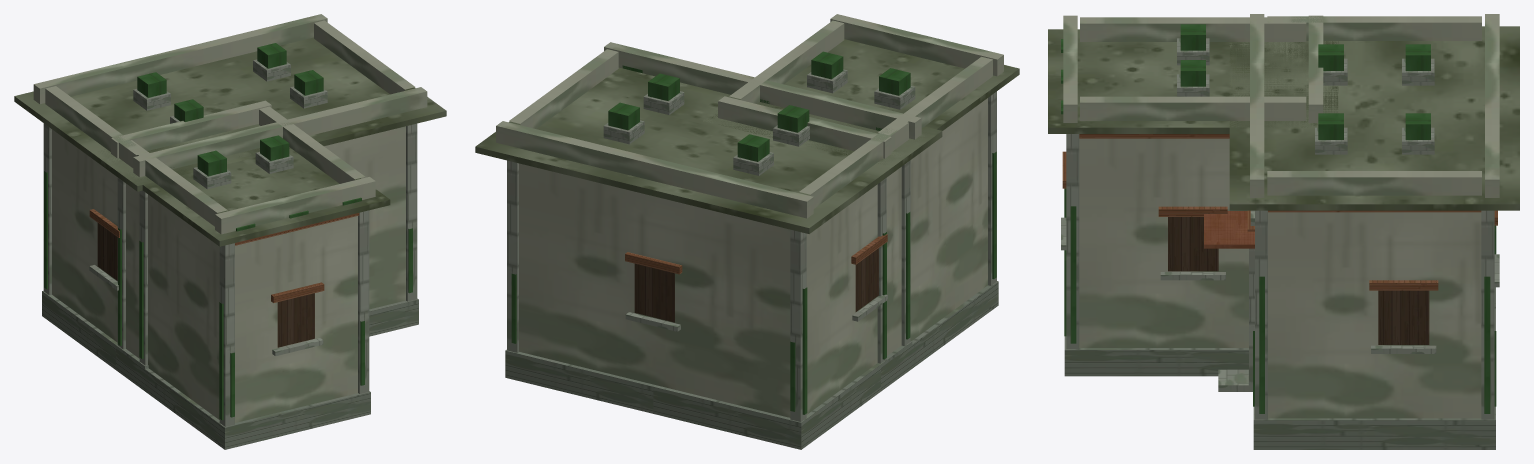
Rendered from ae_jungle_stone_medium_court_lod0.glb.
The picture shows the model from 3 angles, left to right: view 1: azimuth 30°, elevation 25°; view 2: azimuth 150°, elevation 25°; view 3: azimuth 270°, elevation 25°; orthographic projection. The views are drawn at different scales.
Parts seen in each view (by area): view 1: ae_jungle_stone_medium_court_lod0; view 2: ae_jungle_stone_medium_court_lod0; view 3: ae_jungle_stone_medium_court_lod0.
Part boxes in pixels (x1,y1,x2,y2): ae_jungle_stone_medium_court_lod0: (14,14,446,449); ae_jungle_stone_medium_court_lod0: (475,14,1019,449); ae_jungle_stone_medium_court_lod0: (1048,14,1519,449).
Bounding box in the file's own units: 5.8 × 4.36 × 6.5.
Materials: 1 (1 with a texture image).
